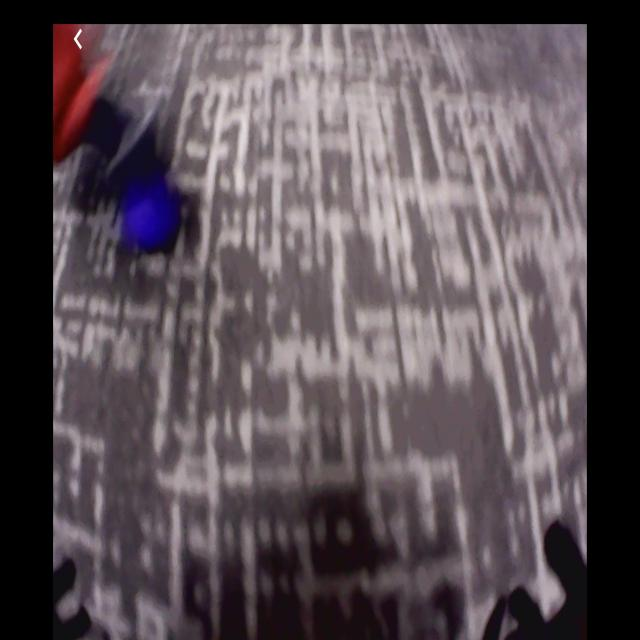ball: (128, 184, 171, 250)
